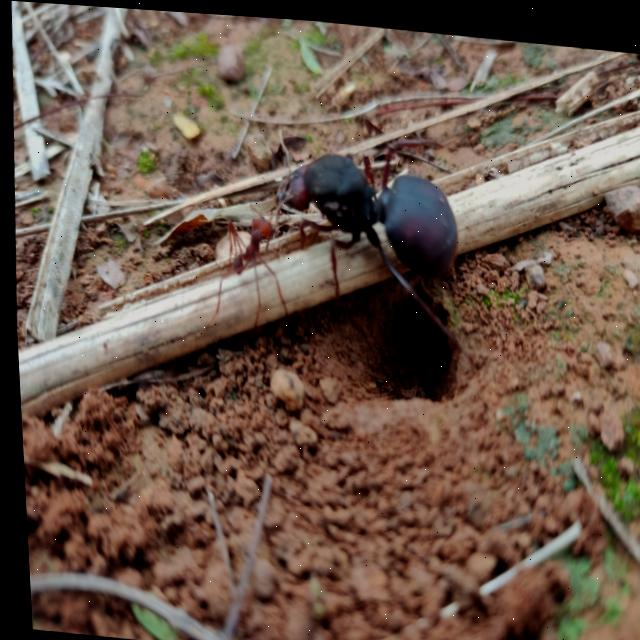Alive-Female-Dealate: (240, 126, 463, 339)
